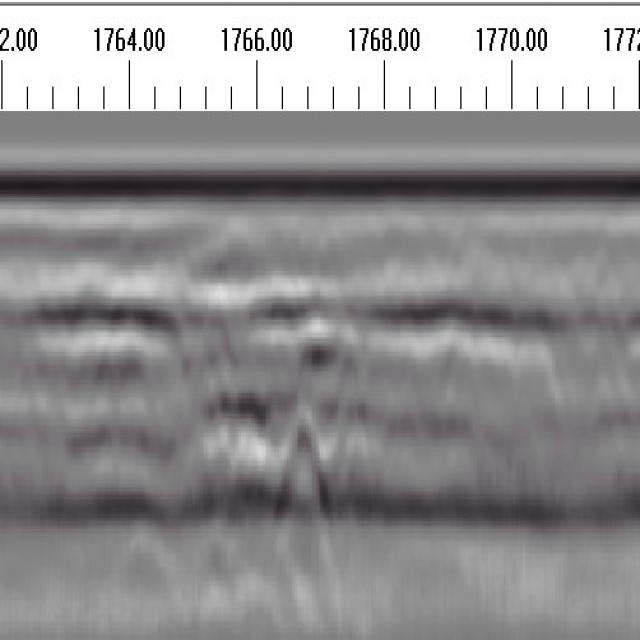loose: (60, 276, 363, 530)
